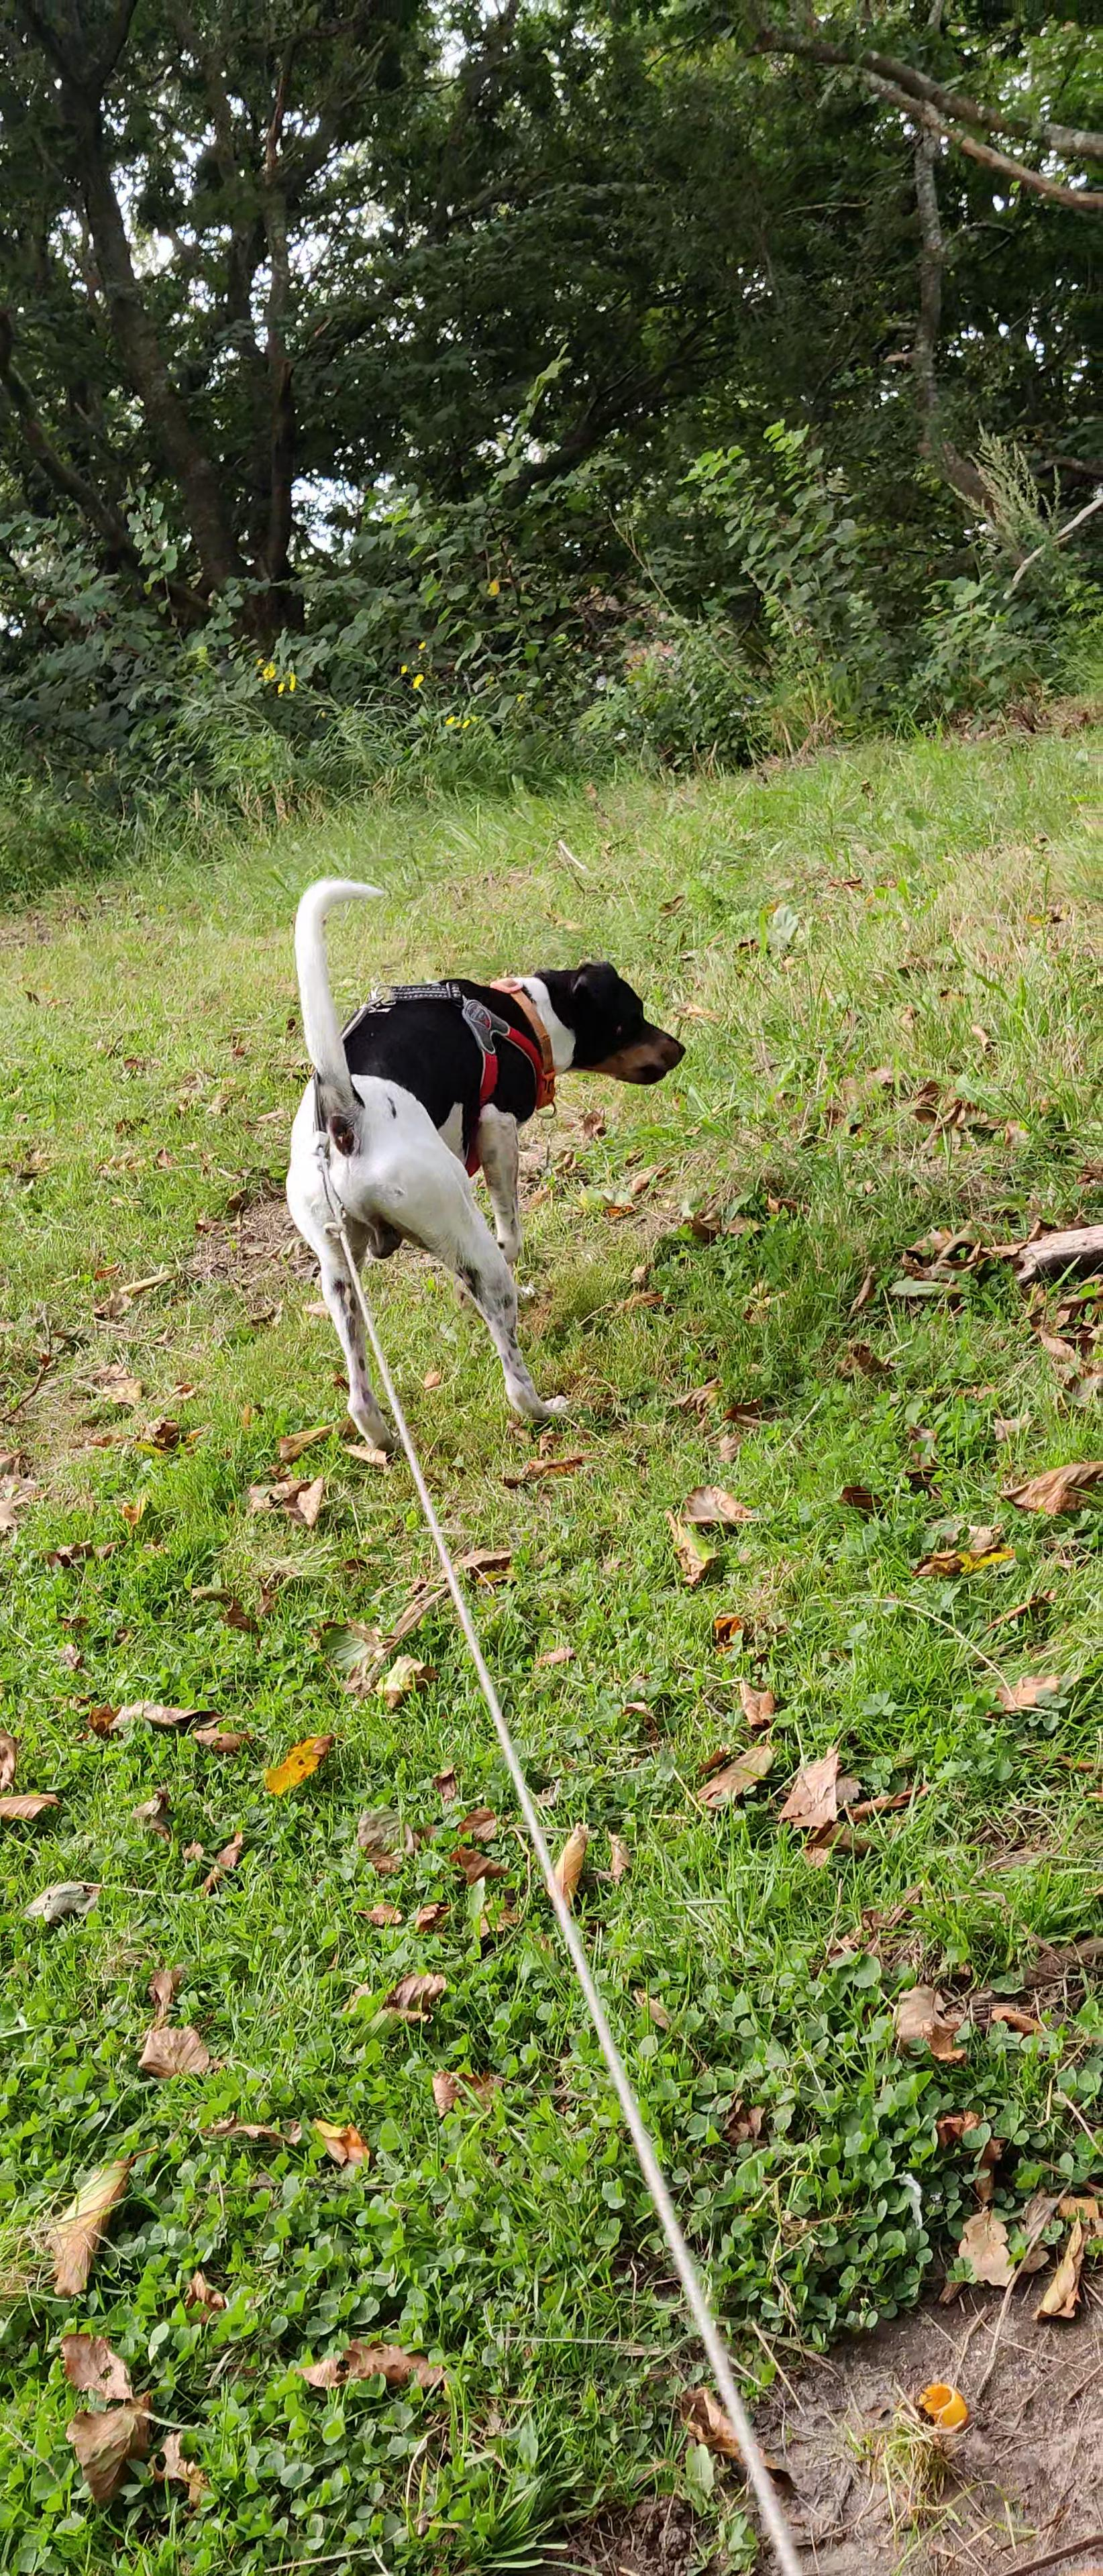Dog: (276, 872, 689, 1459)
